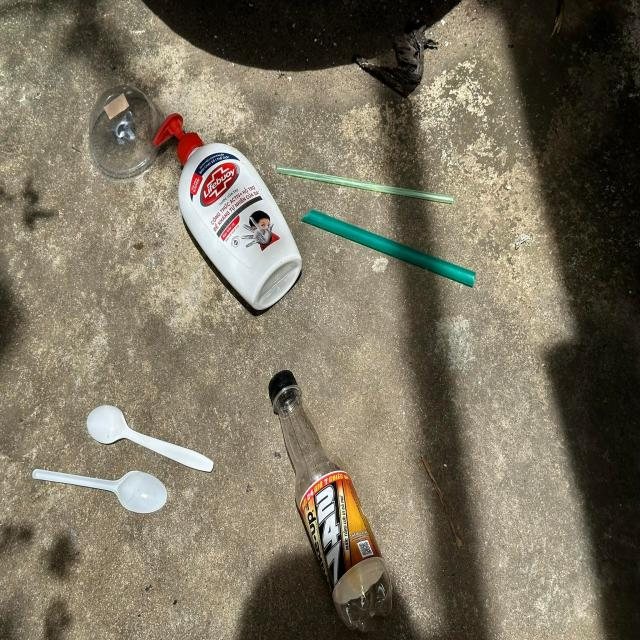bottle: (269, 370, 393, 632), (153, 113, 302, 310)
drinking straw: (300, 209, 476, 286), (277, 166, 453, 204)
lid: (88, 85, 166, 183)
plastic utensil: (87, 405, 214, 473), (32, 468, 168, 514)
